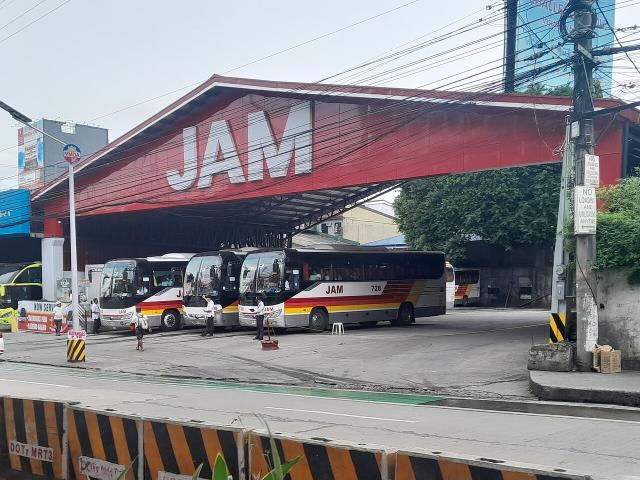bus: (250, 246, 415, 331), (96, 255, 198, 331), (180, 249, 252, 331)
